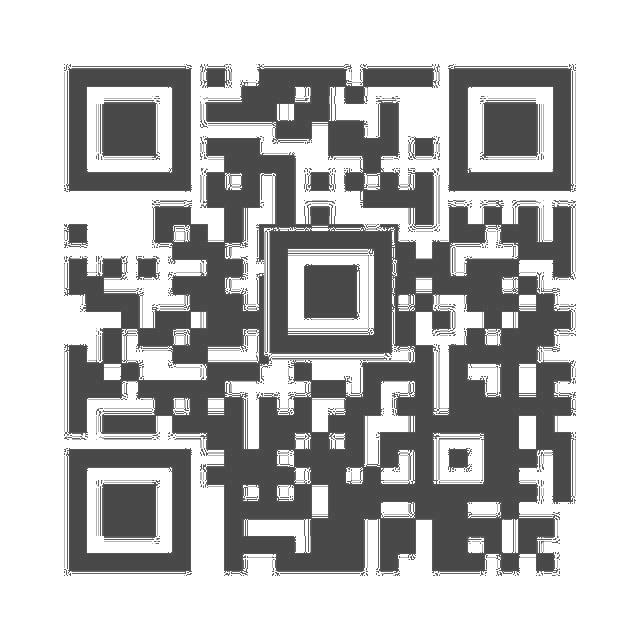qr_code: (48, 54, 587, 592)
